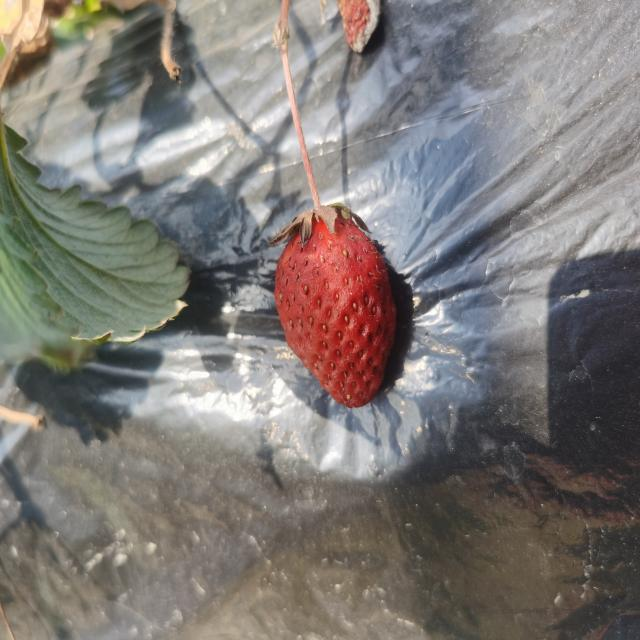stem: (297, 134, 323, 213)
strawberry: (275, 210, 397, 410)
